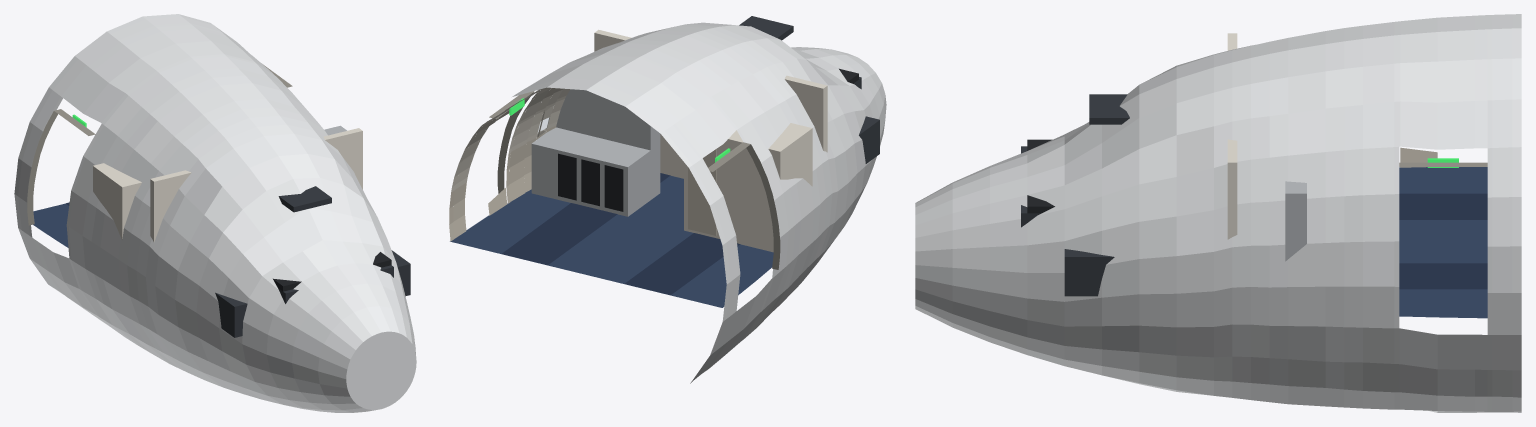
File: ac_section_nose.glb
3 renders of one model, left to right at view 1: azimuth 30°, elevation 25°; view 2: azimuth 150°, elevation 25°; view 3: azimuth 270°, elevation 25°, orthographic. The views are drawn at different scales.
Visible parts, largest first — view 1: ac_section_nose; view 2: ac_section_nose; view 3: ac_section_nose.
Boxes of the visible parts, x1,y1,x2,y2 form: ac_section_nose: (14, 14, 416, 412); ac_section_nose: (449, 16, 886, 383); ac_section_nose: (915, 14, 1521, 412).
Size of the model in its own units: 6.07 by 6.57 by 9.75.
